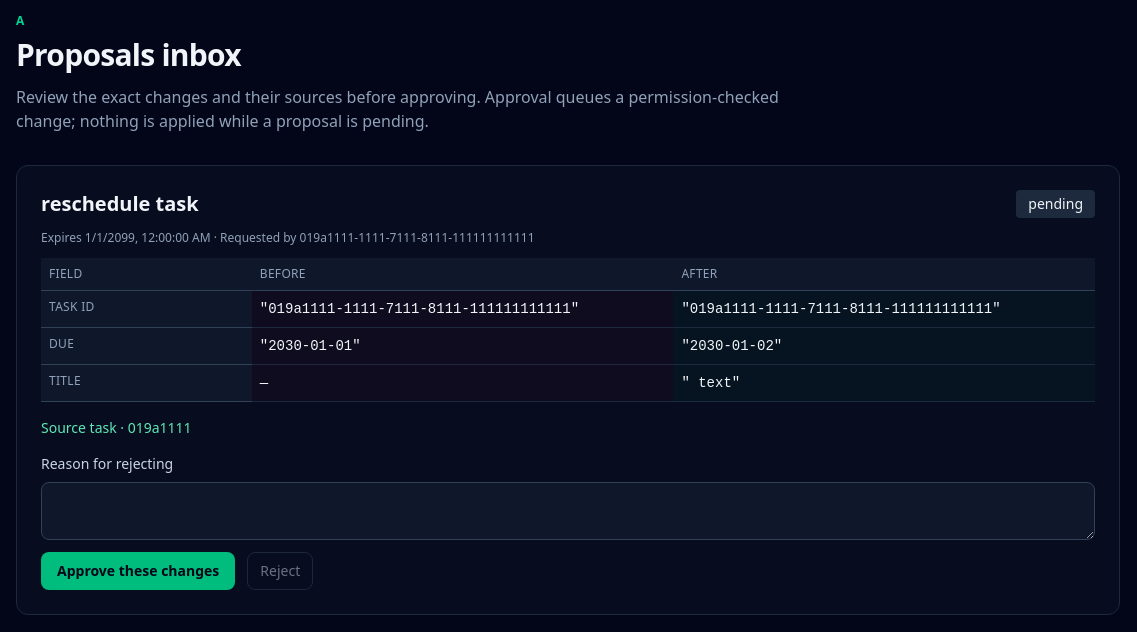
Scenario: inbox renders inert diffs, internal sources, and approves the displayed version/hash with CSRF
The width and height of the screenshot is (1137, 632).
Expected: the heading "reschedule task" is shown, [41,190,199,218]
Expected: the text "2030-01-02" is shown, [681,338,782,354]
Click the button "Approve these changes": (138, 571) [41,552,235,590]
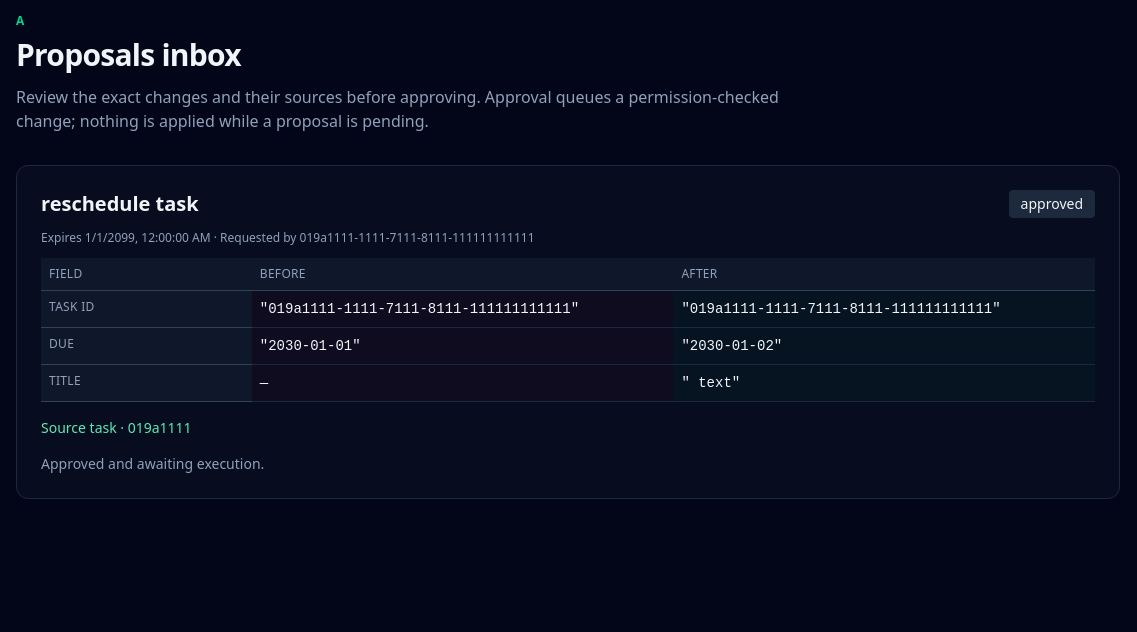
Now the text "Approved and awaiting execution." is shown, box [41,454,264,473]
